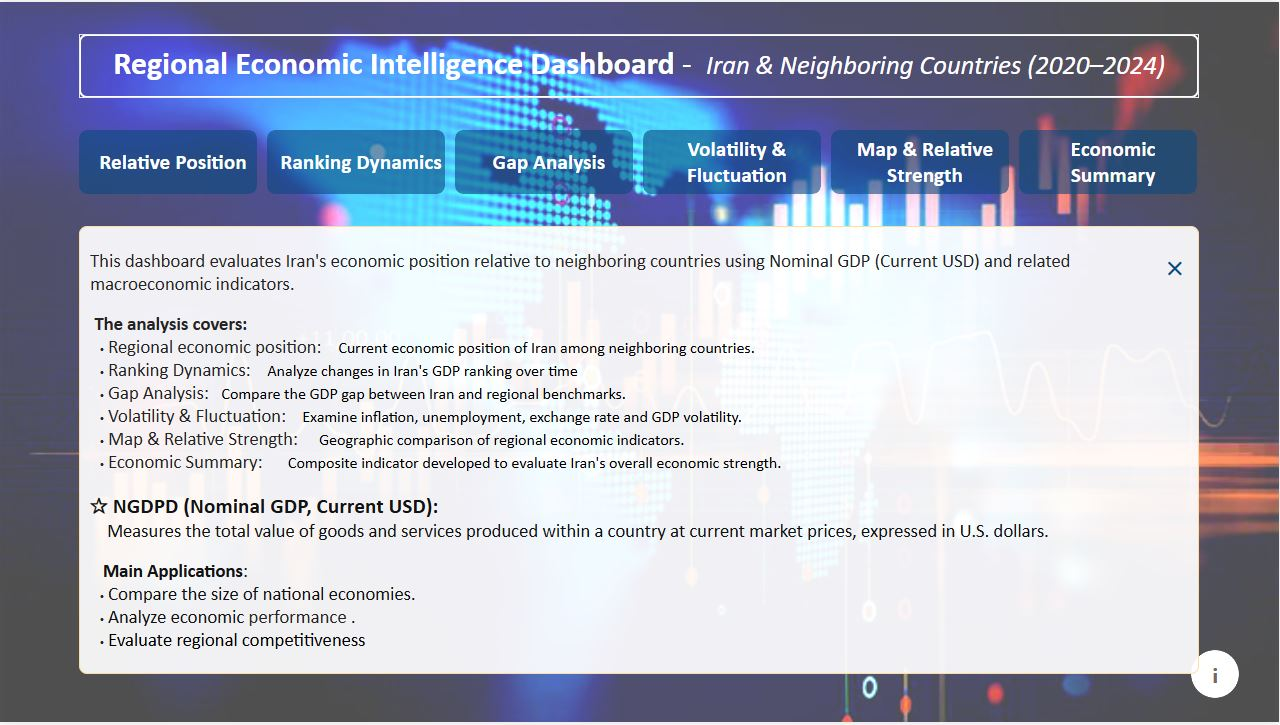

The dashboard page shown, as its layout file describes it:
{"tool":"powerbi","page":{"name":"Home","canvas":[1280,720],"ordinal":0},"visuals":[{"type":"actionButton","title":"Info Btn","box":[1192,648,48,48],"z":0},{"type":"textbox","title":"Title","box":[80,32,1120,64],"z":3000},{"type":"pageNavigator","box":[80,128,1120,64],"z":4000}]}

Visuals, with their boxes in screenshot pixels (x1, y1, x2, y2), scaled from the page's 1280x720 canvas onto the 1280x725 screenshot:
"Info Btn" actionButton: 1192 652 1240 701
"Title" textbox: 80 32 1200 97
pageNavigator: 80 129 1200 193
